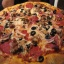olives: (15, 40, 38, 52), (18, 6, 33, 20), (43, 27, 58, 40), (46, 8, 58, 21), (3, 21, 15, 30), (30, 25, 37, 38), (35, 54, 46, 62), (32, 3, 38, 10)
pepperoni: (1, 37, 20, 56), (42, 40, 59, 55), (28, 40, 42, 57)
pizza: (1, 1, 63, 64)
